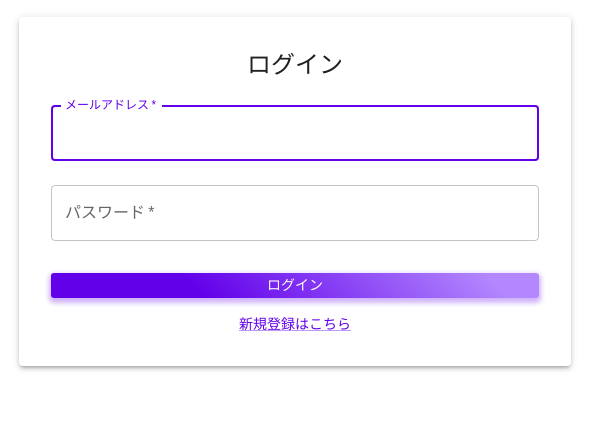
Test: LoginForm › shows validation error for invalid email format
Type "invalid-email" into the field labelled "メールアドレス *". click: (295, 133)
box: [51,105,539,161]
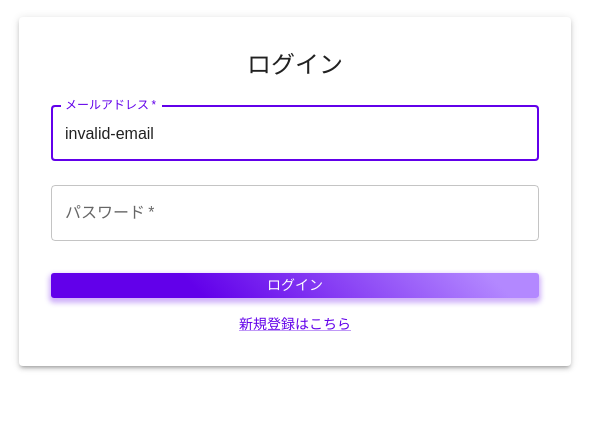
Click the button "ログイン". click: (295, 286)
box: [51,273,539,298]
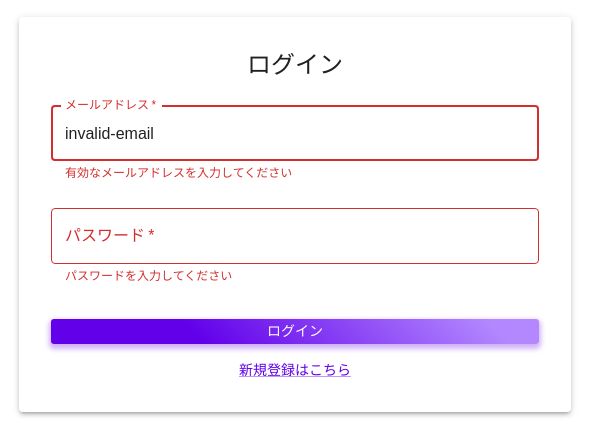
Now the text "有効なメールアドレスを入力してください" is shown, box [65,166,292,180]
